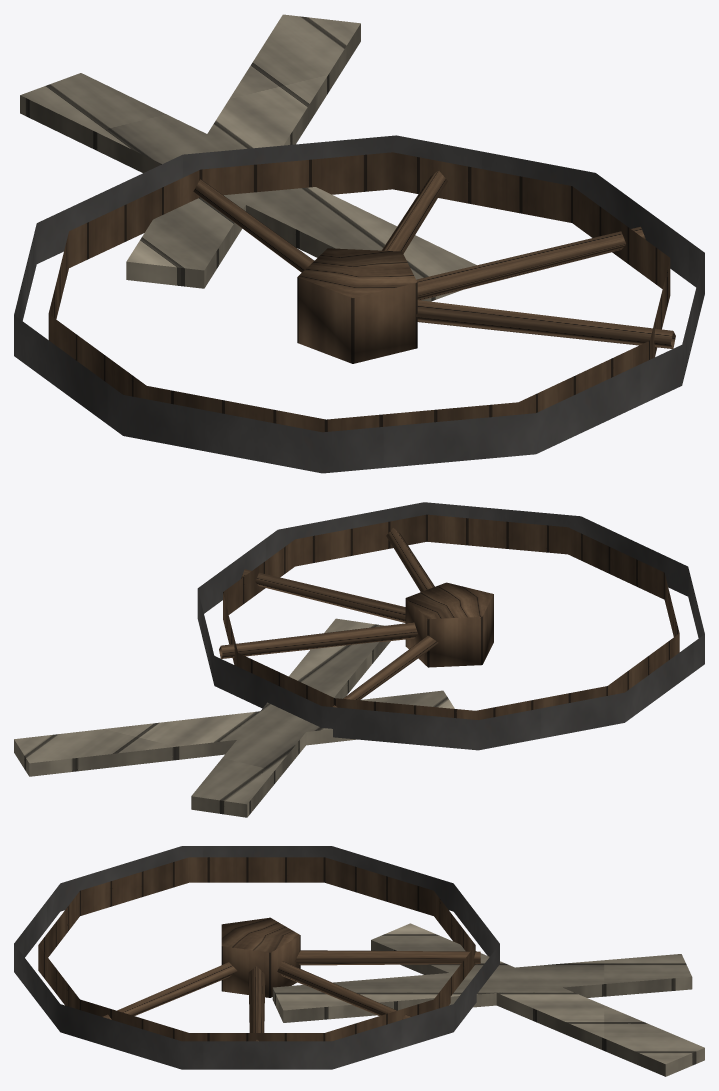
File: Debris_Wheel_1_LOD1.gltf
3 views of the same model, one above another, from view 1: azimuth 30°, elevation 25°; view 2: azimuth 150°, elevation 25°; view 3: azimuth 270°, elevation 25° (orthographic). The views are drawn at different scales.
Parts seen in each view (by area): view 1: Debris_Wheel_1_LOD1; view 2: Debris_Wheel_1_LOD1; view 3: Debris_Wheel_1_LOD1.
Part boxes in pixels (x1=…): Debris_Wheel_1_LOD1: x1=14, y1=14, x2=704, y2=473; Debris_Wheel_1_LOD1: x1=14, y1=502, x2=704, y2=817; Debris_Wheel_1_LOD1: x1=14, y1=846, x2=704, y2=1076.
Size of the model in its own units: 1.35 by 0.144 by 1.99.
3 materials, 3 textured.
